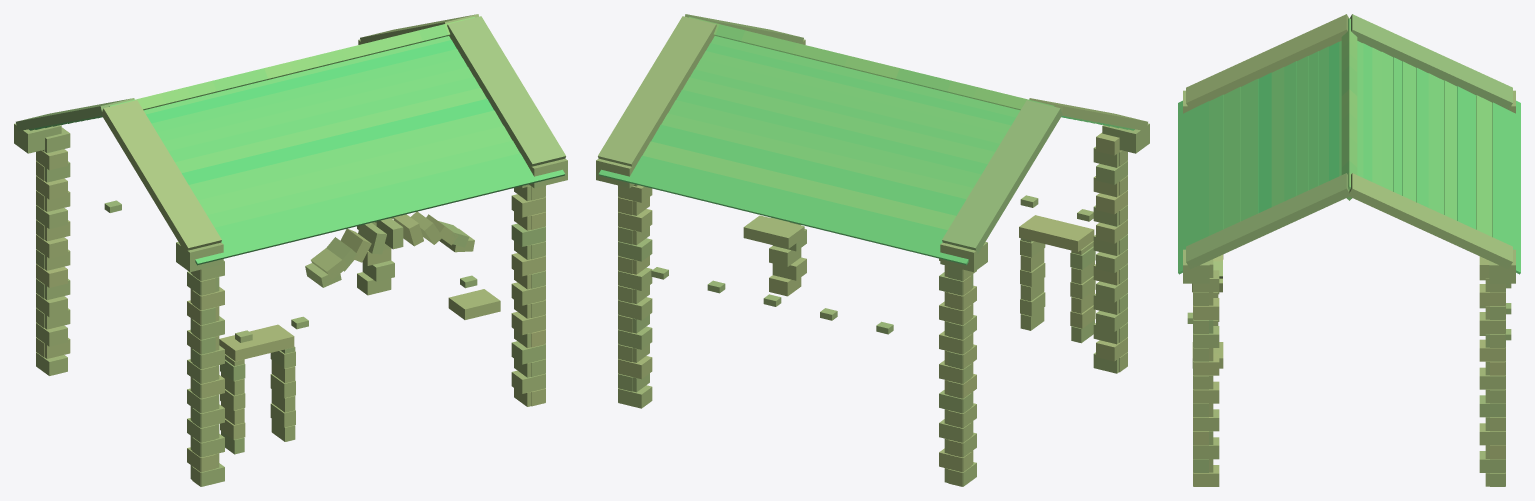
The model's file is SM_Bld_214_Stone.glb.
The picture shows the model from 3 angles, left to right: view 1: azimuth 30°, elevation 25°; view 2: azimuth 150°, elevation 25°; view 3: azimuth 270°, elevation 25°; orthographic projection. The views are drawn at different scales.
Visible parts, largest first — view 1: SM_Bld_214_Stone; view 2: SM_Bld_214_Stone; view 3: SM_Bld_214_Stone.
Part boxes in pixels (x1=…): SM_Bld_214_Stone: x1=14, y1=14, x2=567, y2=486; SM_Bld_214_Stone: x1=596, y1=14, x2=1149, y2=486; SM_Bld_214_Stone: x1=1178, y1=14, x2=1520, y2=486.
Bounding box in the file's own units: 8.07 × 6.6 × 6.7.
